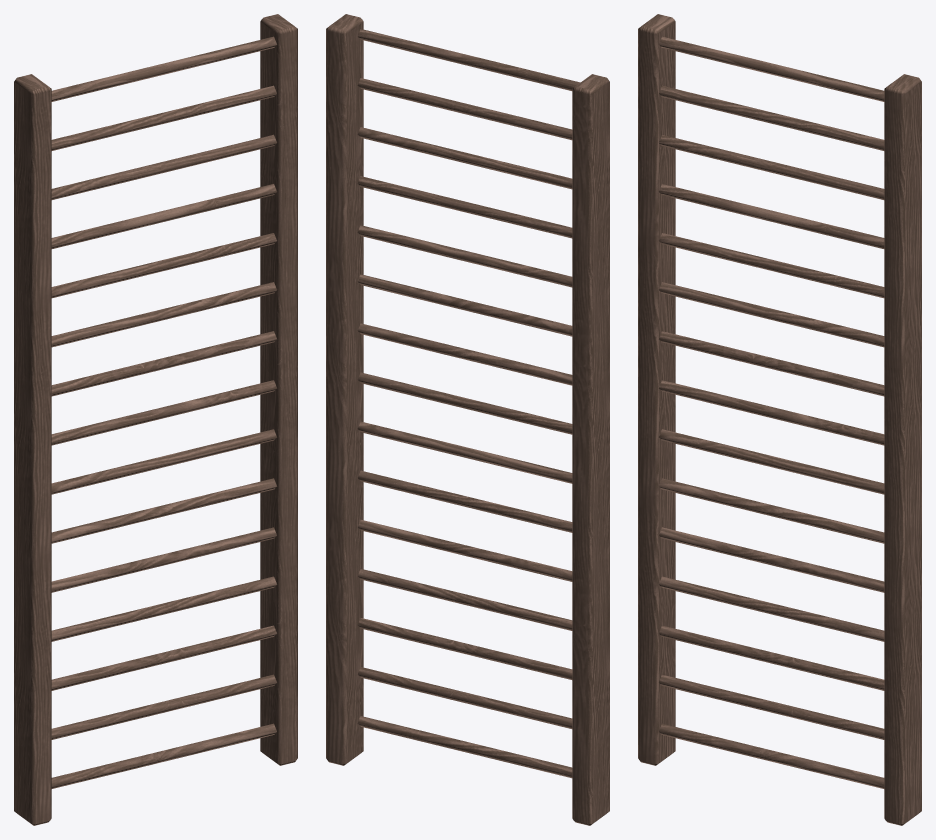
Rendered from training_015.fbx.
The picture shows the model from 3 angles, left to right: view 1: azimuth 30°, elevation 25°; view 2: azimuth 150°, elevation 25°; view 3: azimuth 330°, elevation 25°; orthographic projection.
Visible parts, largest first — view 1: training_015; view 2: training_015; view 3: training_015.
Boxes of the visible parts, x1,y1,x2,y2 form: training_015: (14, 14, 297, 825); training_015: (326, 14, 609, 825); training_015: (638, 14, 921, 825).
Size of the model in its own units: 93.43 by 12.31 by 246.
